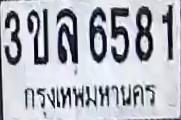1: (162, 4, 174, 60)
3: (3, 10, 21, 64)
5: (110, 6, 129, 62)
6: (88, 6, 106, 62)
8: (134, 6, 153, 61)
A02: (26, 8, 48, 64)
A36: (56, 7, 79, 67)
BKK: (19, 80, 157, 117)
